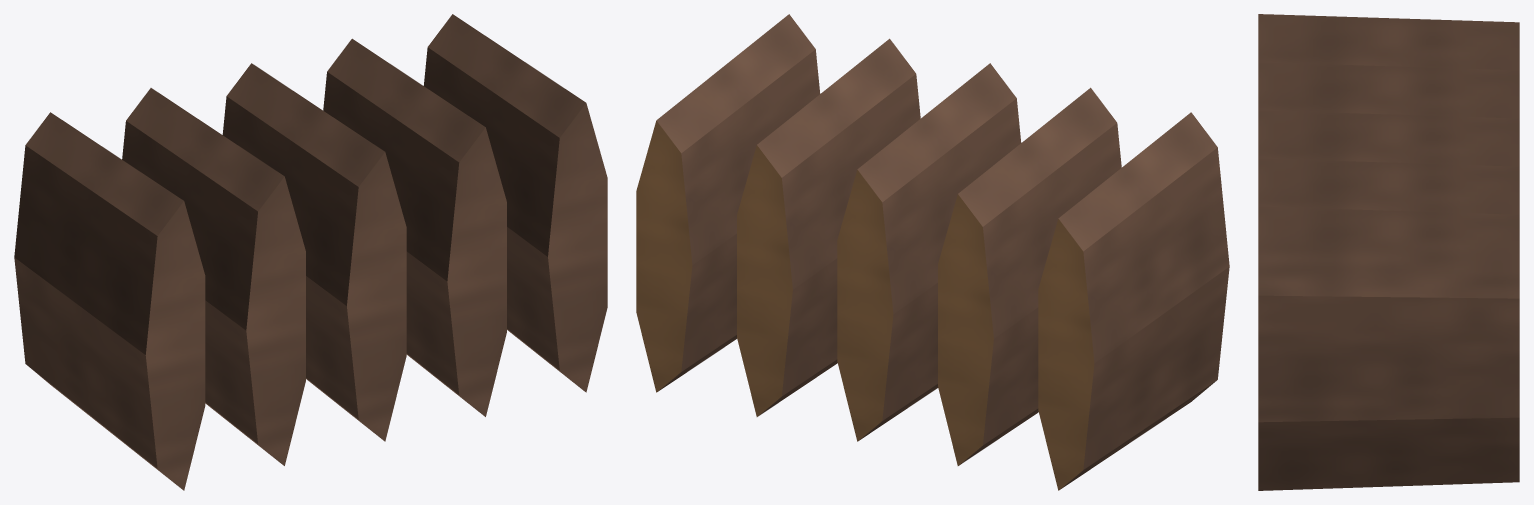
Rendered from log_pile.fbx.
3 views of the same model, side by side, from view 1: azimuth 30°, elevation 25°; view 2: azimuth 150°, elevation 25°; view 3: azimuth 270°, elevation 25° (orthographic).
Parts seen in each view (by area): view 1: log_pile; view 2: log_pile; view 3: log_pile.
Boxes of the visible parts, box(x1,y1,x2,y2) form: log_pile: box(14, 14, 607, 490); log_pile: box(636, 14, 1229, 490); log_pile: box(1258, 14, 1519, 490).
Bounding box in the file's own units: 200 × 120 × 100.
1 material, 1 textured.
